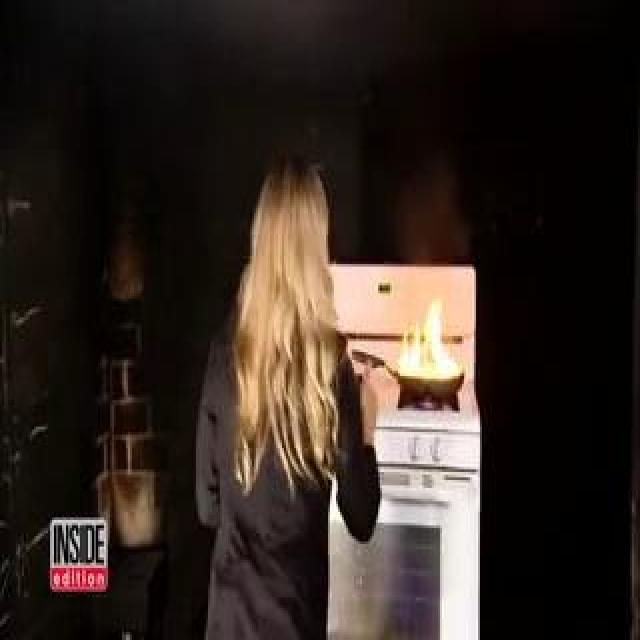Fire: (70, 114, 427, 330)
